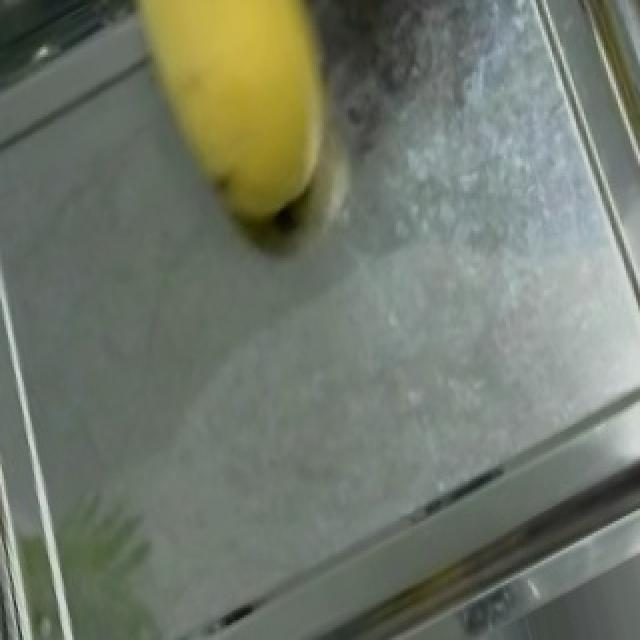fruit: (94, 0, 394, 265)
